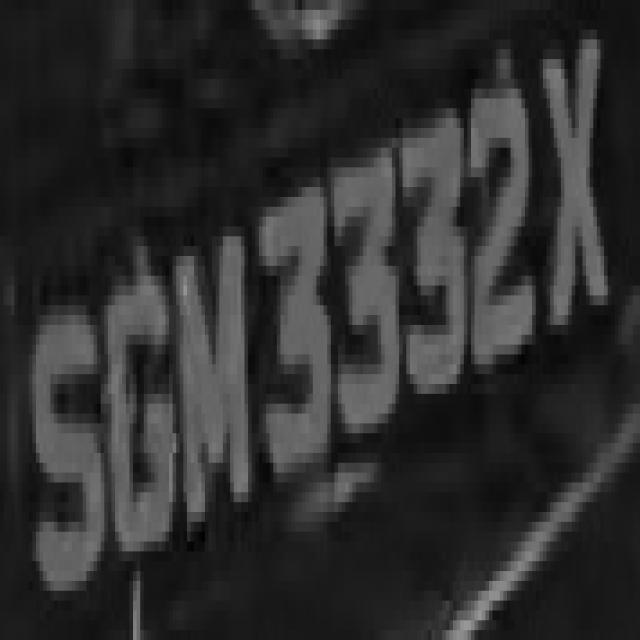2: (460, 29, 532, 403)
3: (317, 98, 399, 453), (396, 89, 468, 424), (252, 148, 324, 482)
G: (100, 266, 180, 591)
M: (180, 216, 252, 532)
S: (22, 286, 97, 590)
X: (532, 0, 611, 354)
